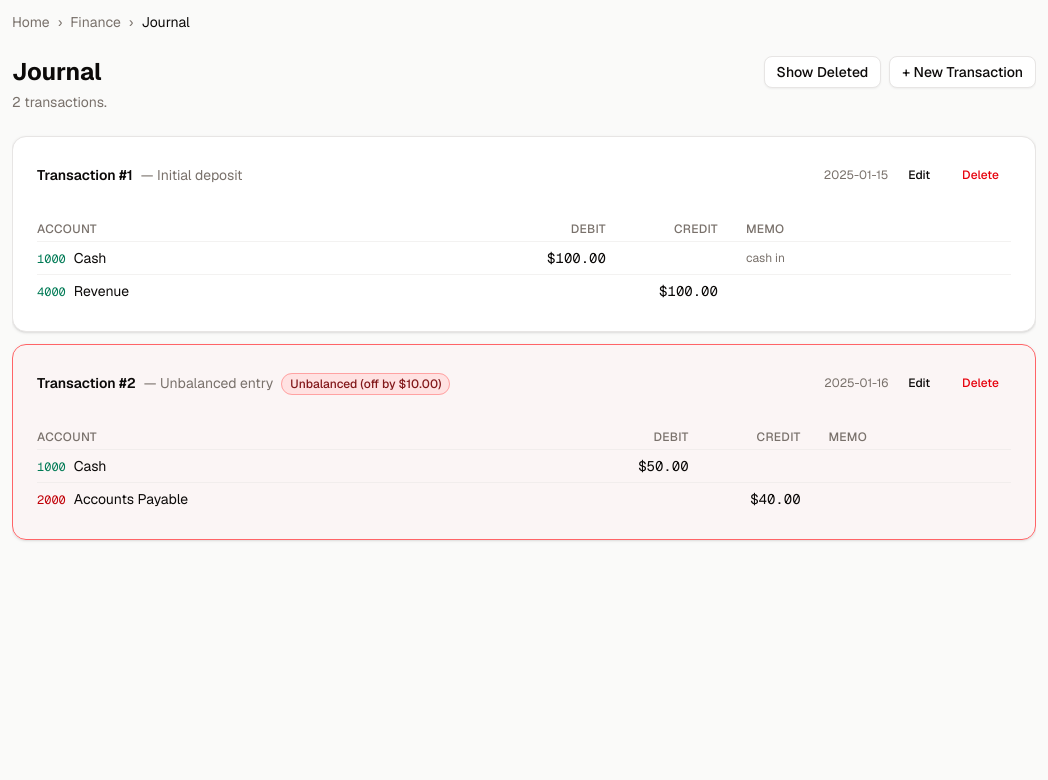
JournalPage › cancels edit mode
Expected: the link "Transaction #1" is shown, [37,166,133,184]
Step 1. Click the button "Edit" next to "2025-01-15" → (919, 175), box [896,161,942,189]
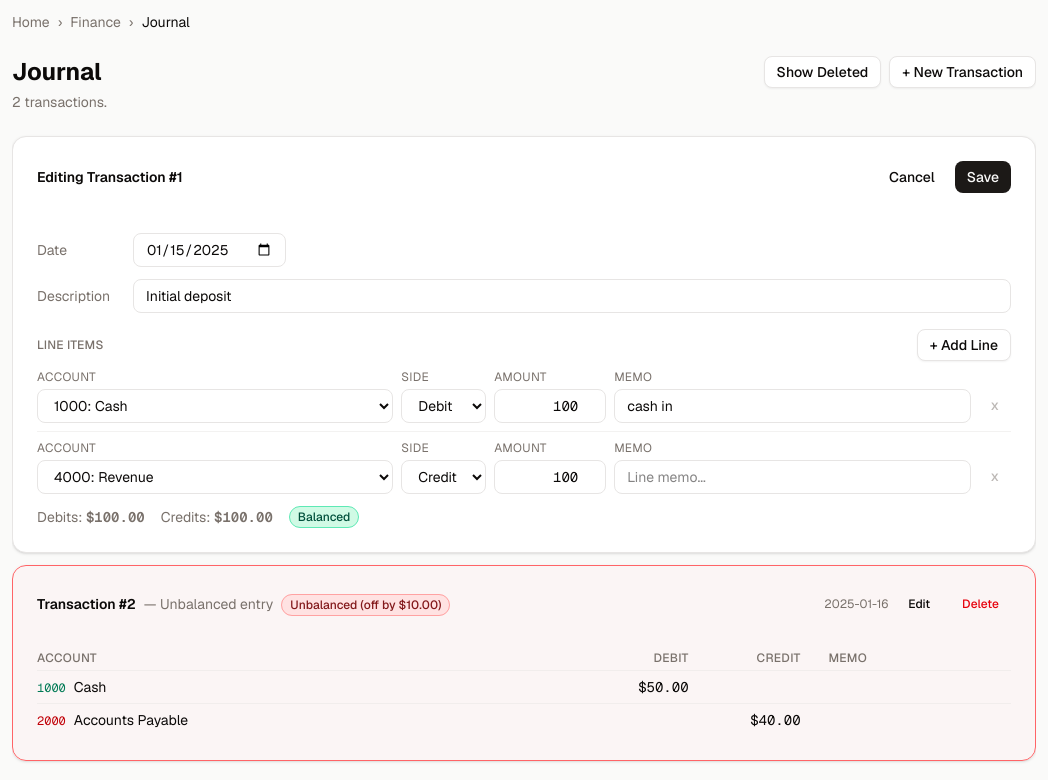
Expected: the text "Editing Transaction #1" is shown, [37,167,183,187]
Step 2. Click the button "Cancel" → (912, 177), box [877,161,947,193]
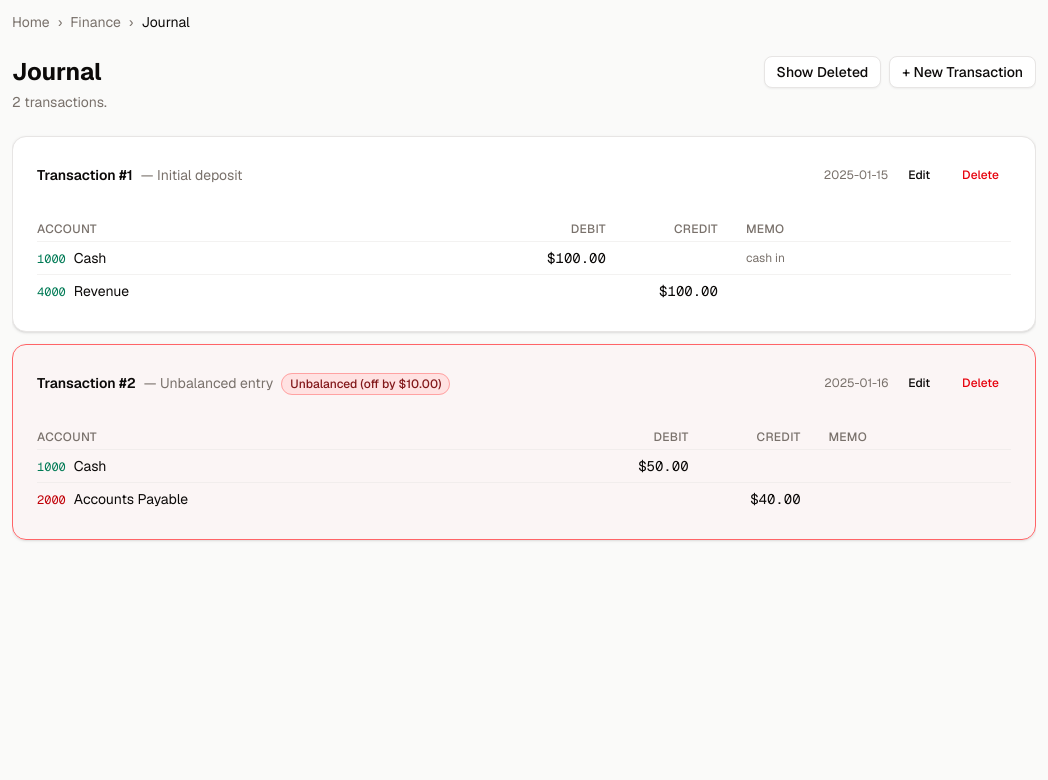
Expected: the text "Editing Transaction #1" is gone
